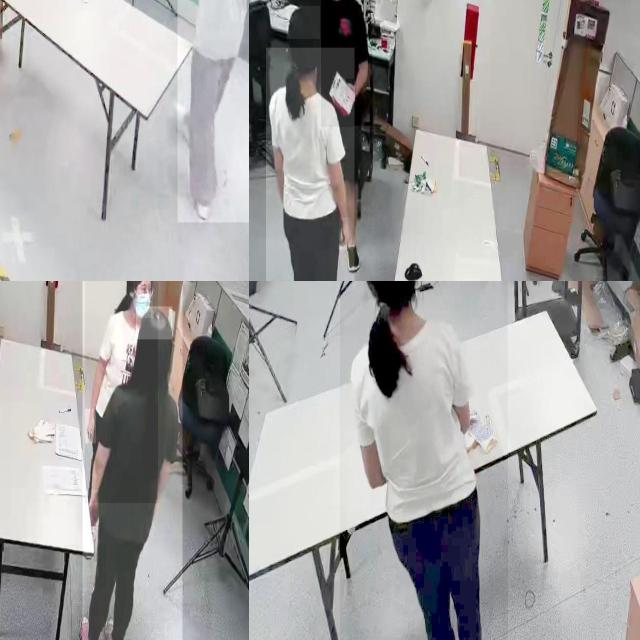face_mask: (133, 281, 152, 317)
hand_noglove: (87, 490, 99, 526), (85, 409, 97, 444), (339, 218, 351, 250), (345, 79, 357, 103)
head_nohelmet: (136, 306, 173, 341), (286, 6, 321, 40)
person: (339, 281, 508, 640), (82, 281, 183, 640), (266, 47, 355, 281), (85, 281, 158, 502), (177, 0, 249, 223), (321, 0, 373, 126)
shoes: (341, 232, 363, 278), (190, 182, 214, 224), (78, 608, 102, 640), (102, 610, 122, 640)
